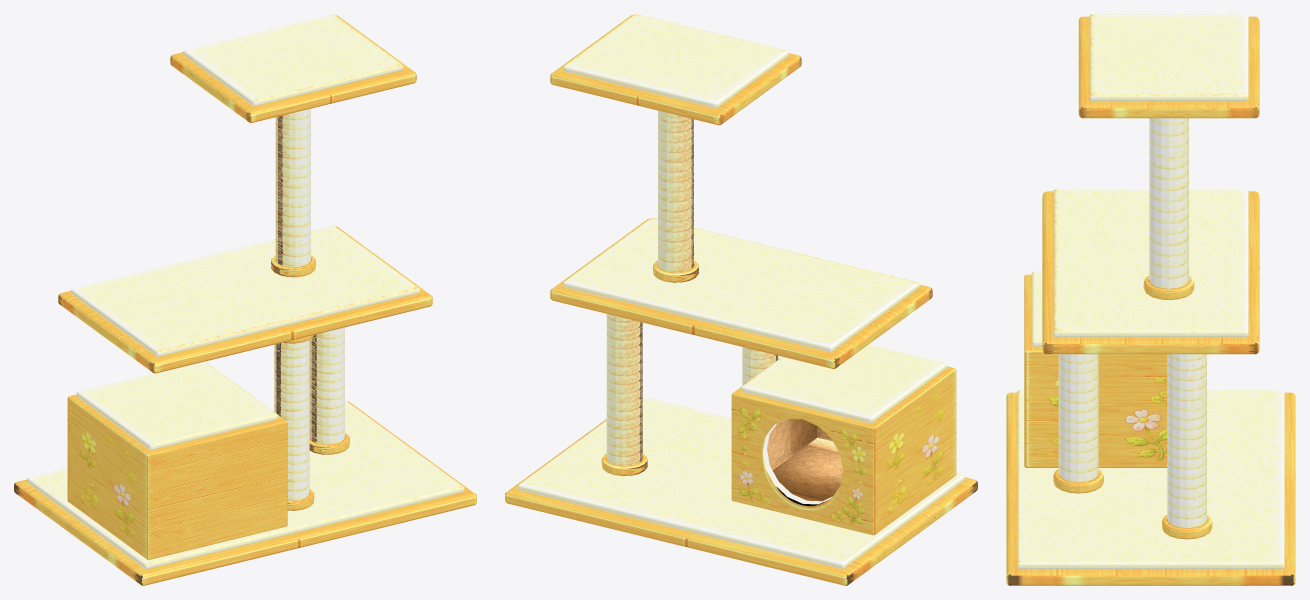
Rendered from cat_tower_gray_wood_01_muted_unlit.glb.
3 views of the same model, side by side, from view 1: azimuth 30°, elevation 25°; view 2: azimuth 150°, elevation 25°; view 3: azimuth 270°, elevation 25° (orthographic). The views are drawn at different scales.
Parts seen in each view (by area): view 1: cat_tower_mesh; view 2: cat_tower_mesh; view 3: cat_tower_mesh.
Boxes of the visible parts, left/top/right/bottom form: cat_tower_mesh: left=14, top=14, right=476, bottom=585; cat_tower_mesh: left=505, top=14, right=977, bottom=585; cat_tower_mesh: left=1006, top=14, right=1295, bottom=585.
Bounding box in the file's own units: 2.4 × 2.88 × 1.6.
Materials: 25 (24 with a texture image).
